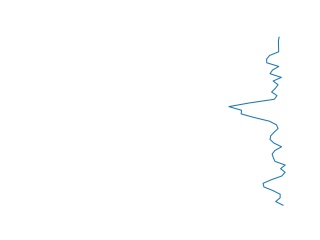interdistributaryEstuary: (224, 34, 291, 207)
